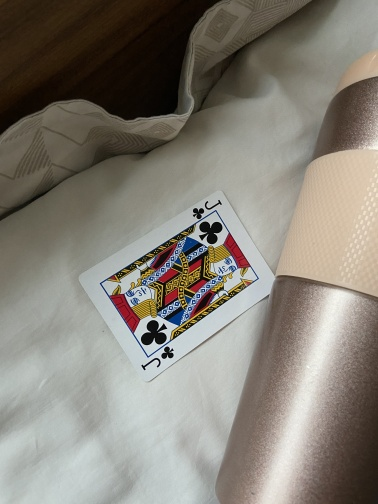jack: (76, 187, 281, 384)
